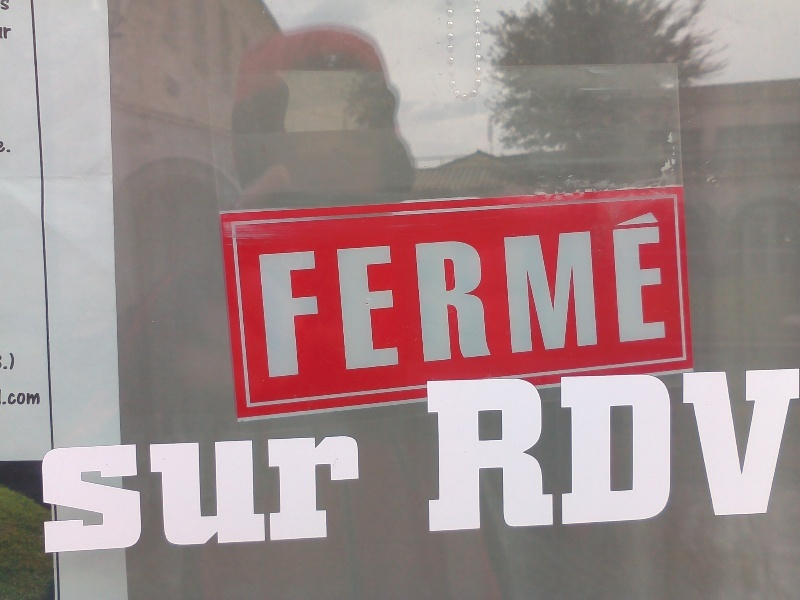text: (433, 361, 448, 536), (449, 361, 464, 536), (465, 361, 480, 536), (481, 361, 496, 536), (497, 361, 512, 536), (513, 361, 528, 536), (529, 361, 544, 536), (545, 361, 560, 536), (561, 361, 576, 536), (577, 361, 592, 536), (593, 361, 608, 536), (609, 361, 624, 536), (625, 361, 640, 536), (641, 361, 656, 536), (657, 361, 672, 536), (673, 361, 688, 536), (689, 361, 704, 536), (705, 361, 720, 536), (721, 361, 736, 536), (737, 361, 752, 536), (753, 361, 768, 536), (769, 361, 784, 536), (257, 207, 272, 381), (273, 207, 288, 381), (289, 207, 304, 381), (305, 207, 320, 381), (321, 207, 336, 381), (337, 207, 352, 381), (353, 207, 368, 381), (369, 207, 384, 381), (385, 207, 400, 381), (401, 207, 416, 381), (417, 207, 432, 381), (433, 207, 448, 381), (449, 207, 464, 381), (465, 207, 480, 381), (481, 207, 496, 381), (497, 207, 512, 381), (513, 207, 528, 381), (529, 207, 544, 381), (545, 207, 560, 381), (561, 207, 576, 381), (577, 207, 592, 381), (593, 207, 608, 381), (609, 207, 624, 381), (625, 207, 640, 381), (641, 207, 656, 381), (785, 361, 799, 536), (657, 207, 669, 381), (49, 433, 64, 556), (65, 433, 80, 556), (81, 433, 96, 556), (97, 433, 112, 556), (113, 433, 128, 556), (129, 433, 144, 556), (145, 433, 160, 556), (161, 433, 176, 556), (177, 433, 192, 556), (193, 433, 208, 556), (209, 433, 224, 556), (225, 433, 240, 556), (241, 433, 256, 556), (257, 433, 272, 556), (273, 433, 288, 556), (289, 433, 304, 556), (305, 433, 320, 556), (321, 433, 336, 556), (337, 433, 352, 556), (422, 361, 432, 536), (353, 433, 363, 556), (40, 433, 48, 556), (252, 207, 256, 381), (1, 352, 16, 372), (17, 389, 32, 407), (3, 389, 16, 407), (1, 26, 16, 40), (1, 140, 16, 153), (1, 1, 16, 12), (33, 389, 42, 407)
